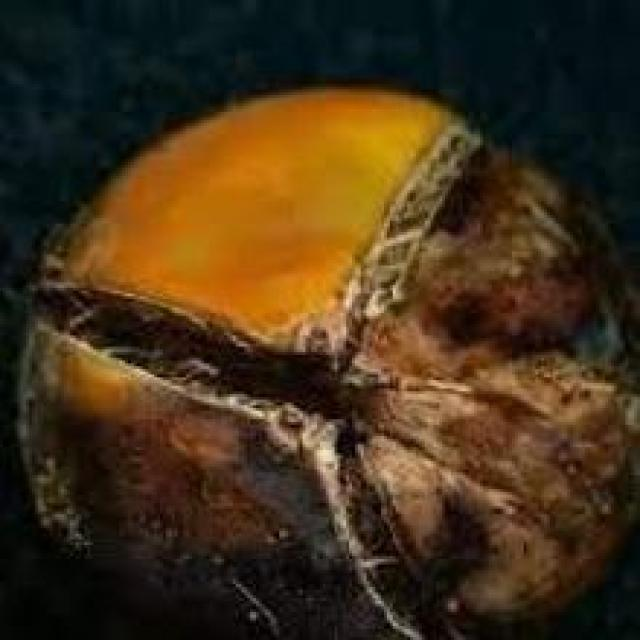damaged: (17, 87, 637, 637)
